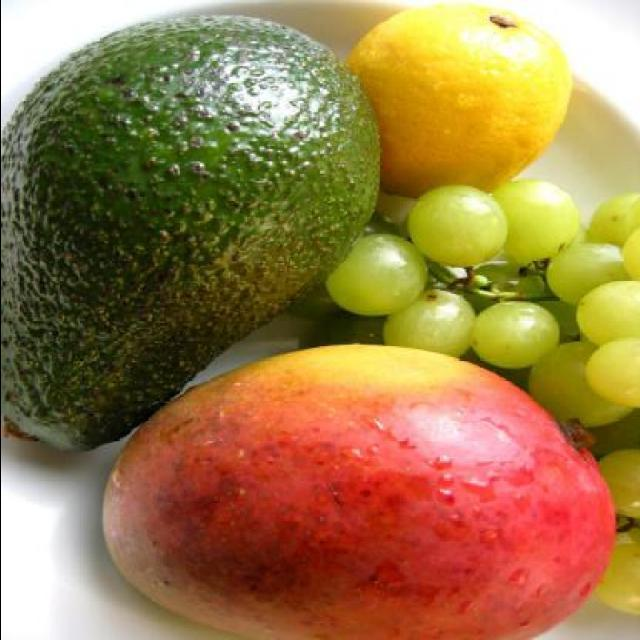Mango: (99, 346, 616, 638)
